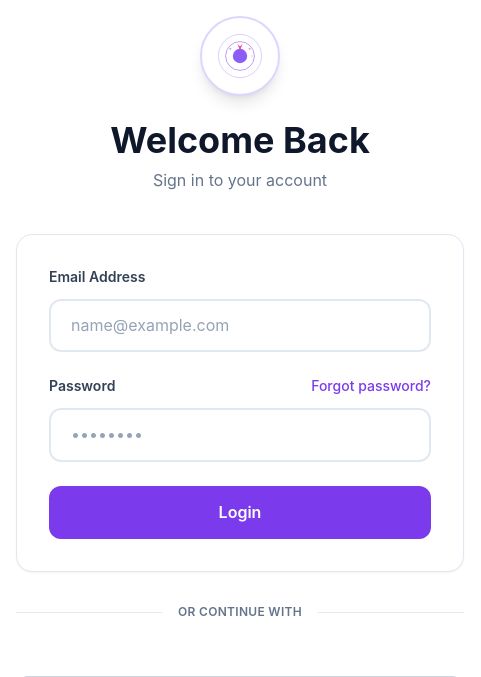
Test: auth-flow.test.tsx › LoginForm › should disable submit button while loading
The image size is (481, 677).
Type "test@example.com" into the field with test id "auth-login-email" at (240, 325), box [49, 299, 431, 352]
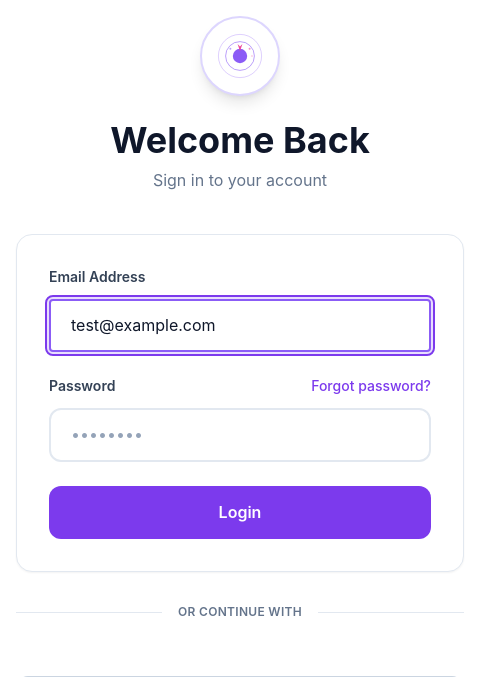
Type "password123" into the password field with test id "auth-login-password" at (240, 435), box [49, 408, 431, 462]
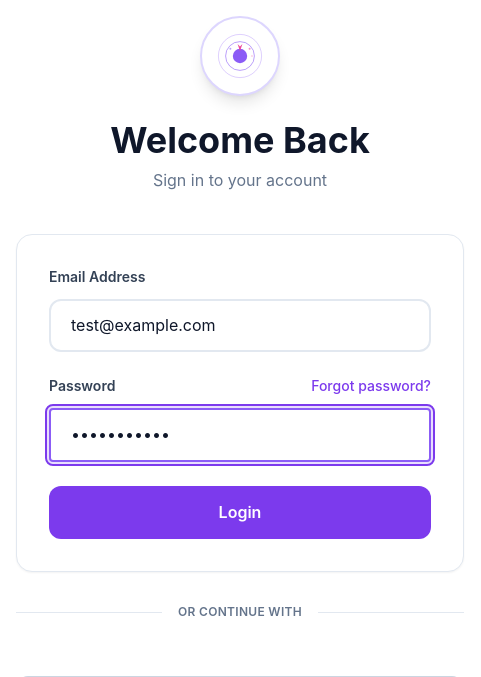
Click the button with test id "auth-login-submit" at (240, 513), box [49, 486, 431, 539]
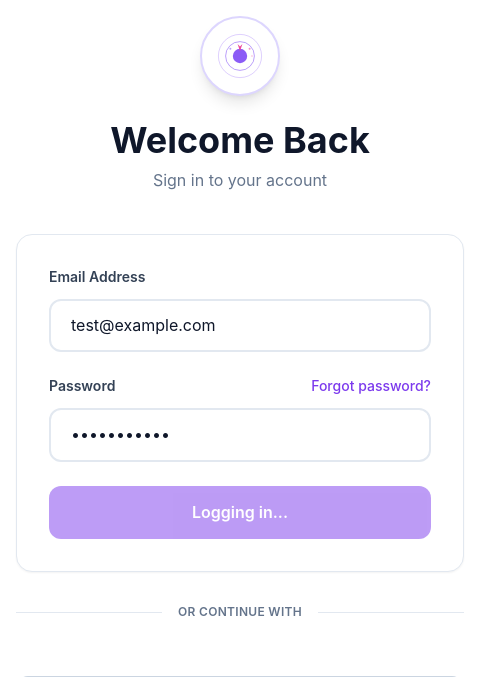
Now the button with test id "auth-login-submit" is disabled, box [49, 486, 431, 539]
